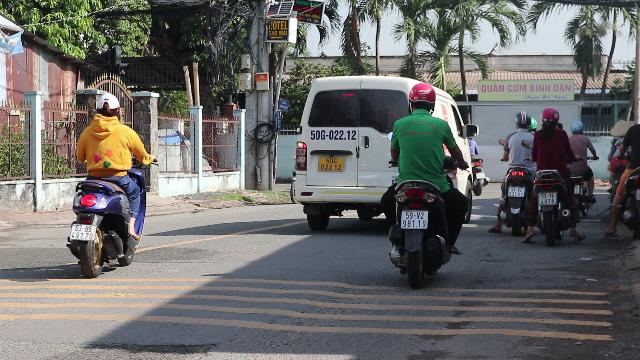helmet: (406, 81, 436, 112), (92, 92, 120, 121), (540, 107, 560, 127), (513, 109, 531, 128)
licenseplate: (401, 211, 427, 229), (71, 224, 95, 240), (538, 192, 556, 204), (508, 187, 524, 197)
motorcyclist: (376, 80, 470, 284), (64, 91, 148, 277), (528, 106, 578, 244), (493, 107, 537, 235)
